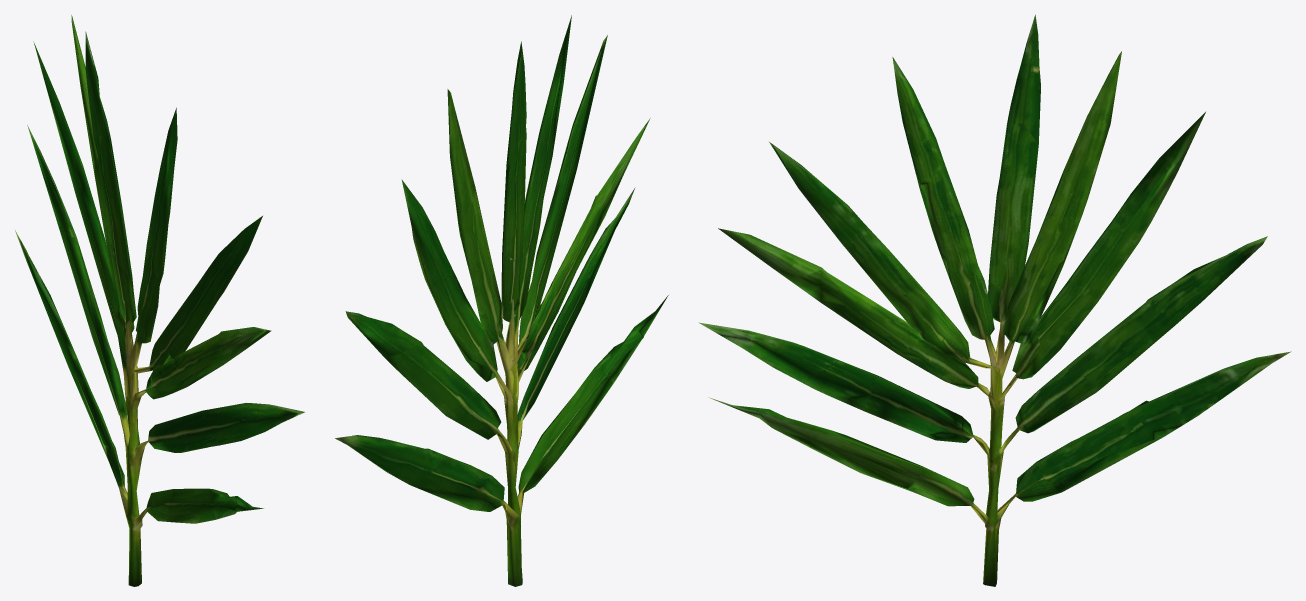
The model's file is sasa-leaf-mid.glb.
The picture shows the model from 3 angles, left to right: view 1: azimuth 30°, elevation 25°; view 2: azimuth 150°, elevation 25°; view 3: azimuth 270°, elevation 25°; orthographic projection. The views are drawn at different scales.
Parts seen in each view (by area): view 1: tripo_node_88707740-2944-41f8-9ffa-7227667d9060; view 2: tripo_node_88707740-2944-41f8-9ffa-7227667d9060; view 3: tripo_node_88707740-2944-41f8-9ffa-7227667d9060.
Part boxes in pixels (bbox=[...]): tripo_node_88707740-2944-41f8-9ffa-7227667d9060: bbox=[15, 15, 304, 586]; tripo_node_88707740-2944-41f8-9ffa-7227667d9060: bbox=[335, 15, 668, 586]; tripo_node_88707740-2944-41f8-9ffa-7227667d9060: bbox=[699, 14, 1291, 586].
Size of the model in its own units: 0.1077 by 0.9904 by 0.9569.
1 material, 1 textured.
